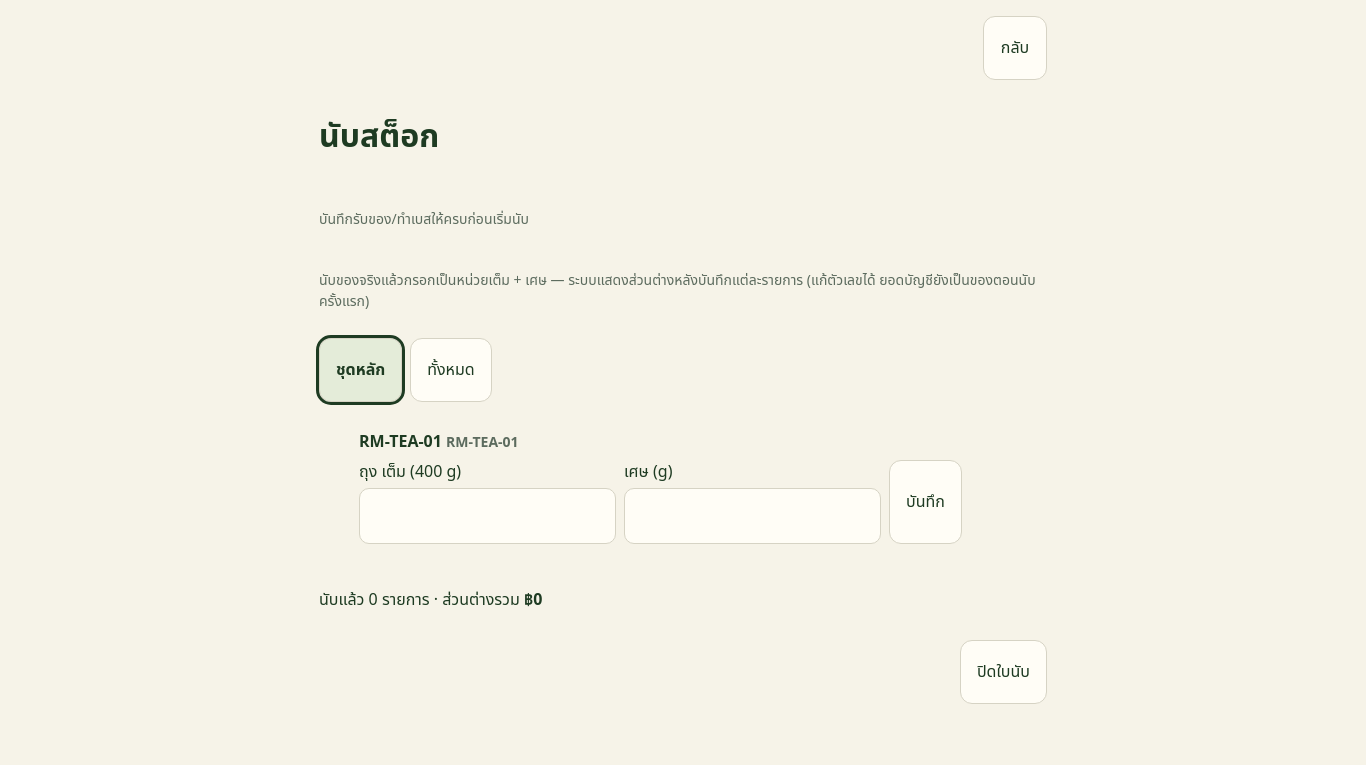
Test: CountScreen (spec §4.5 · Q4-3 blind count · Q4-14 units + rest) › shows the key items only, with no book figure before a line is saved; the variance appears after saving
Expected: the list item with test id "count-row-RM-TEA-01" is shown, [359,430,1047,544]
Type "1" into the field with test id "count-units-RM-TEA-01" at (488, 516), box [359,488,616,544]
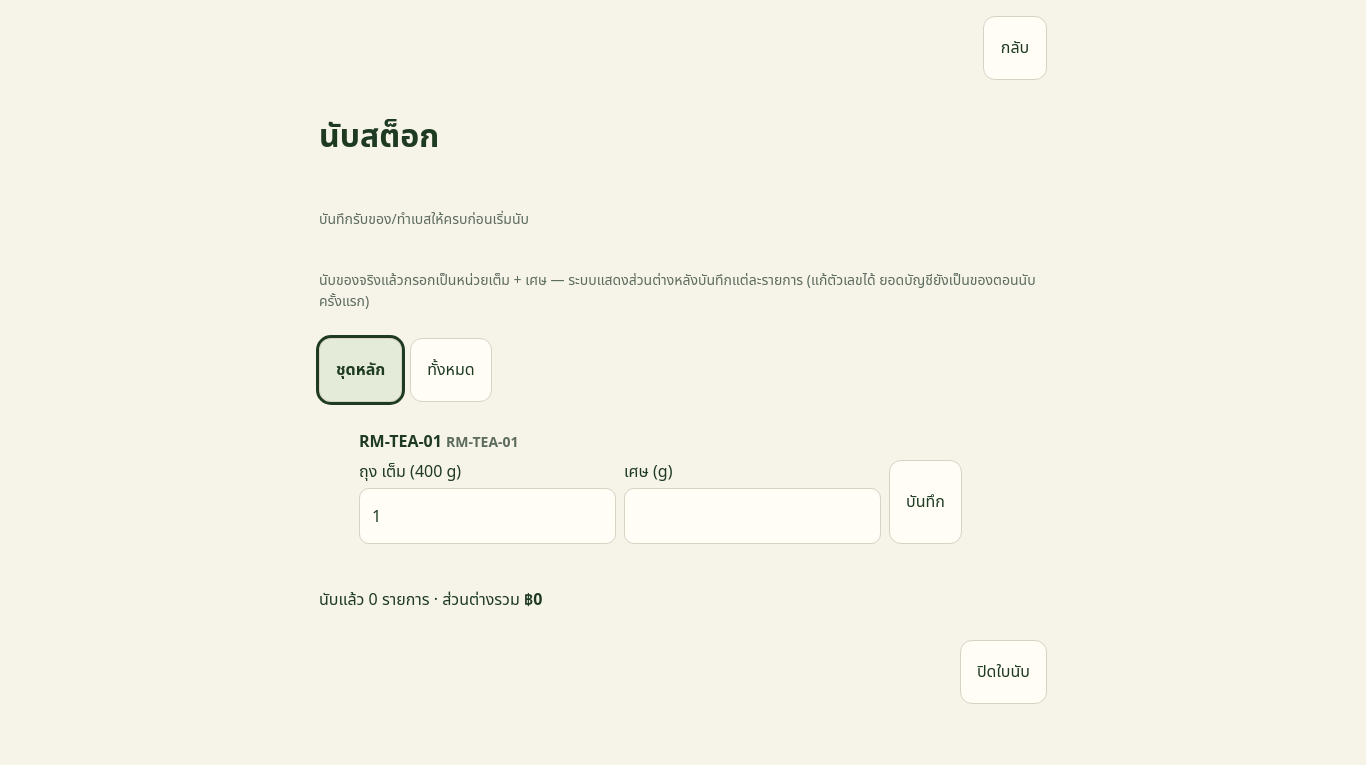
Type "200" into the field with test id "count-rest-RM-TEA-01" at (752, 516), box [624,488,881,544]
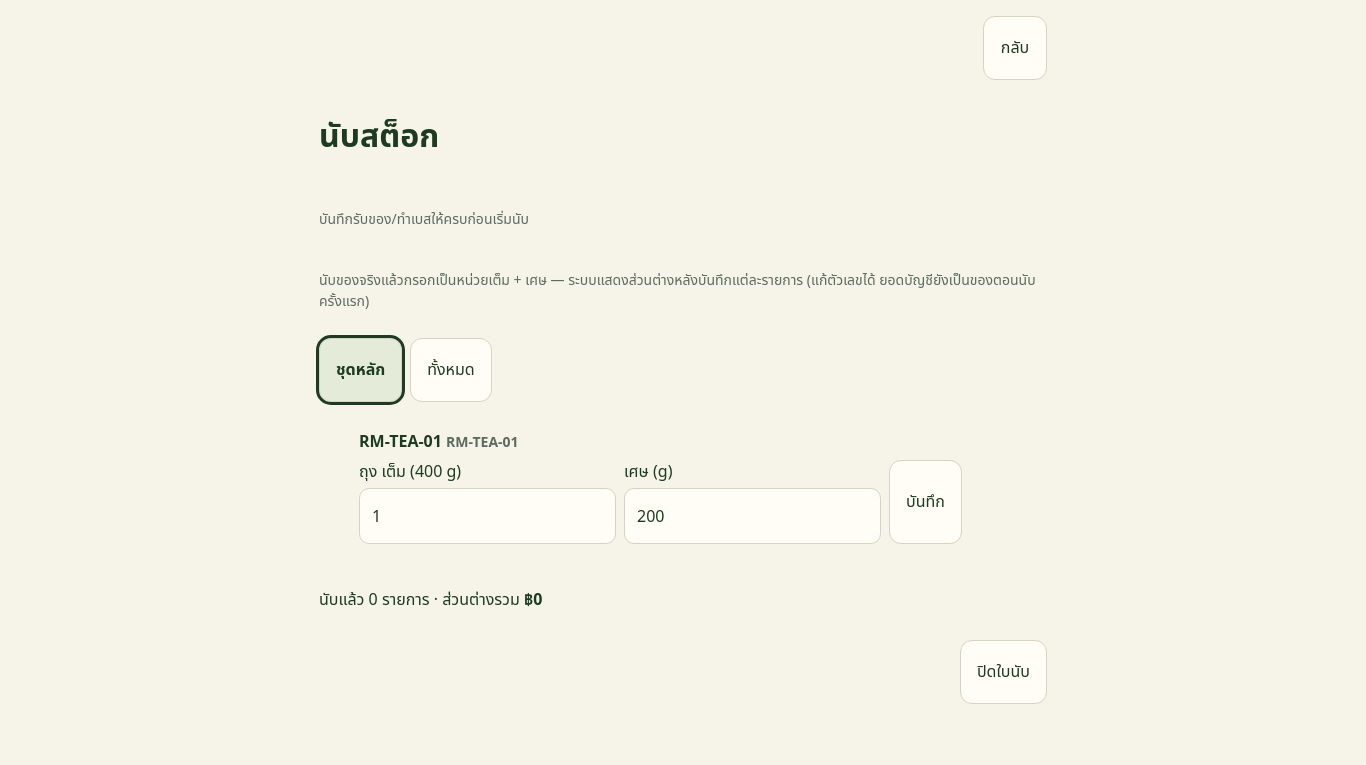
Click the button with test id "count-save-RM-TEA-01" at (925, 502), box [889,460,962,544]
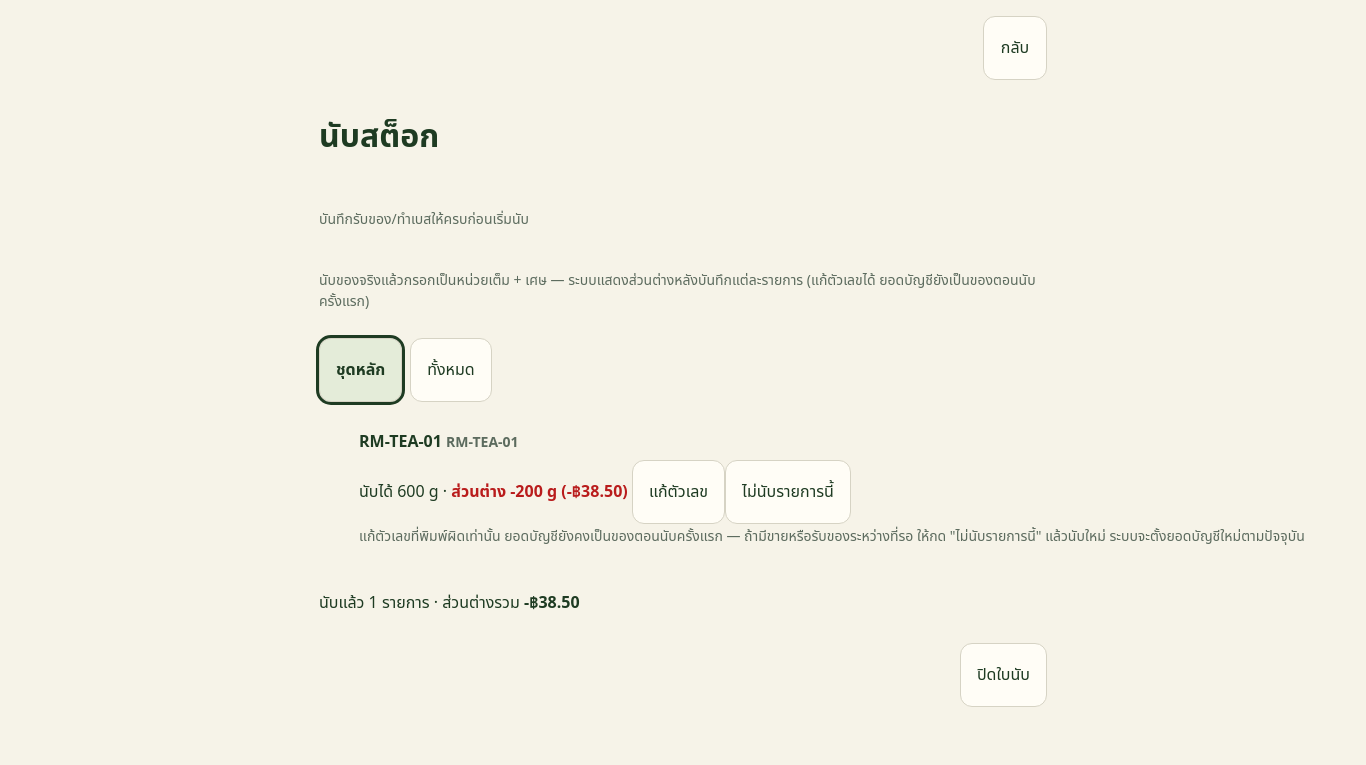
Expected: the text with test id "count-variance-RM-TEA-01" shows "-200 g", [451,480,628,502]
Expected: the text with test id "count-variance-RM-TEA-01" shows "-฿38.50", [451,480,628,502]
Click the button with test id "count-scope-all" at (451, 370), box [410,338,492,402]
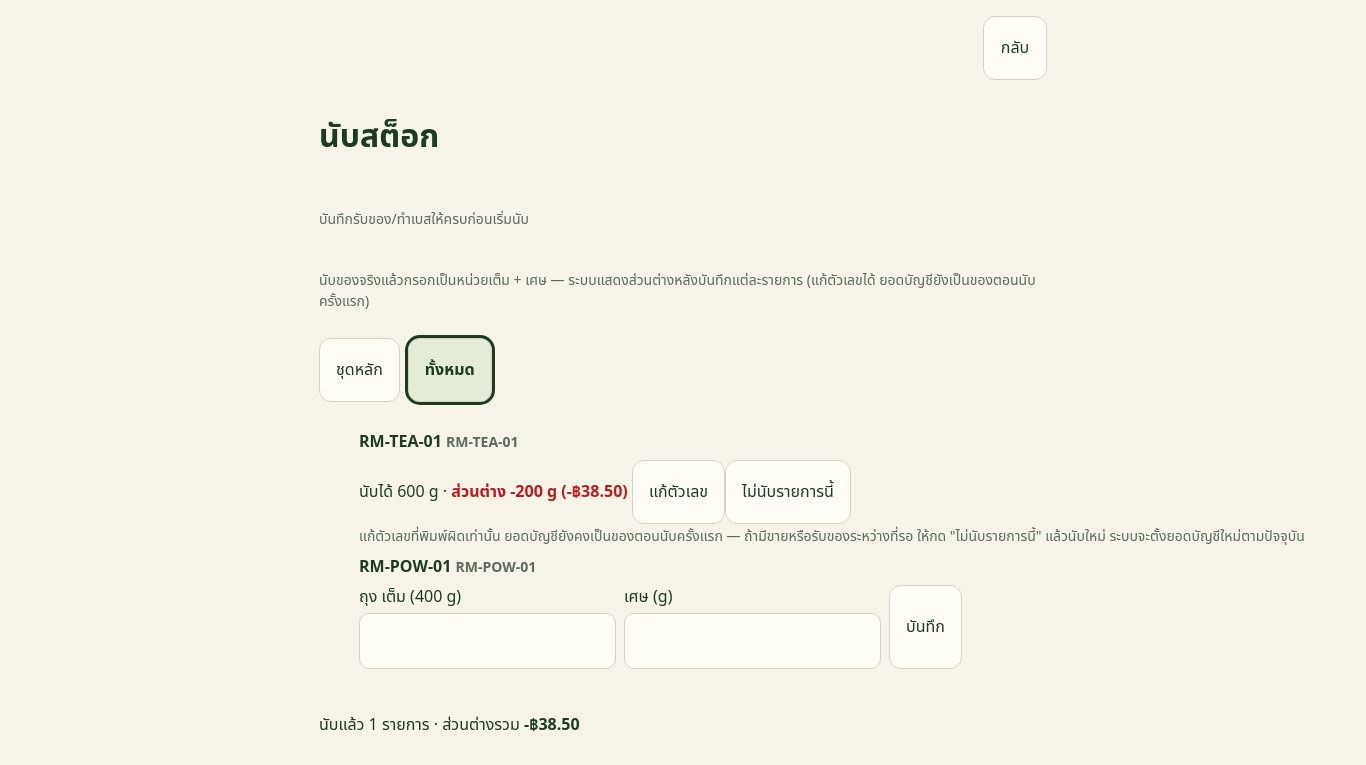
Expected: the list item with test id "count-row-RM-POW-01" is shown, [359,555,1047,669]
